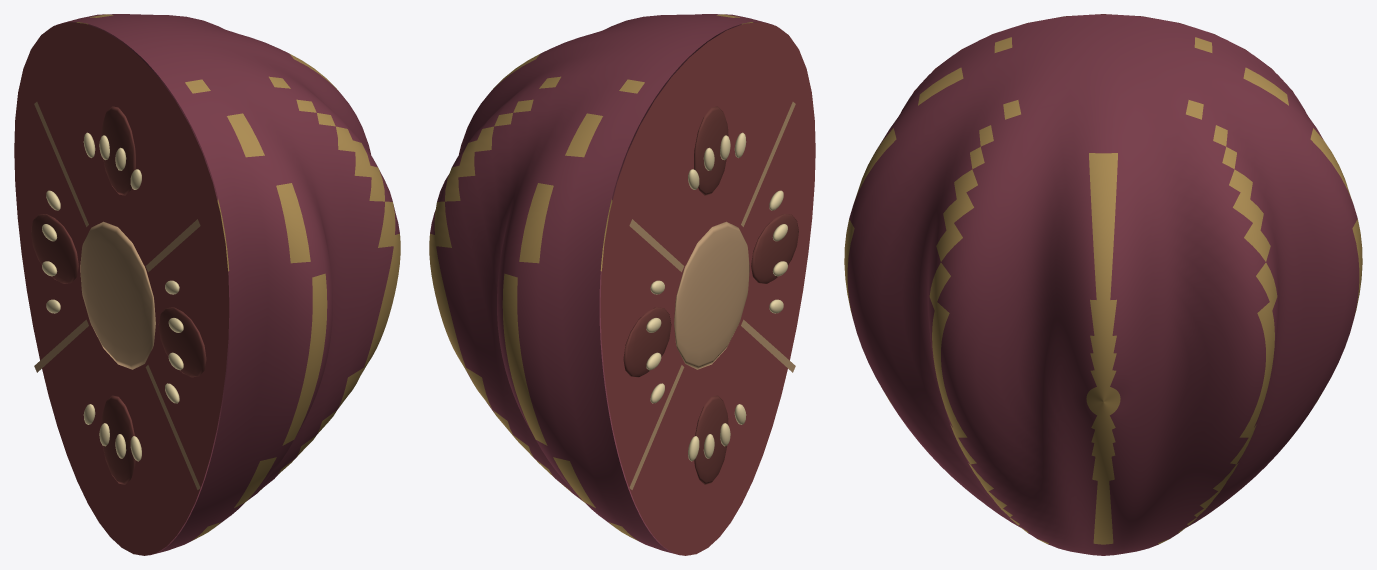
File: event_jackpot_half.glb
3 views of the same model, side by side, from view 1: azimuth 30°, elevation 25°; view 2: azimuth 150°, elevation 25°; view 3: azimuth 270°, elevation 25° (orthographic). The views are drawn at different scales.
Visible parts, largest first — view 1: Jackpot Jackpot garnet heart skin / Fine antique-gold rib se, Jackpot Jackpot moist garnet flesh, Jackpot Champagne pith and septa, Jackpot Four deep wine seed chambers, Jackpot Pale golden archive seeds; view 2: Jackpot Jackpot garnet heart skin / Fine antique-gold rib se, Jackpot Jackpot moist garnet flesh, Jackpot Champagne pith and septa, Jackpot Four deep wine seed chambers, Jackpot Pale golden archive seeds; view 3: Jackpot Jackpot garnet heart skin / Fine antique-gold rib se.
Boxes of the visible parts, <box> form: Jackpot Jackpot garnet heart skin / Fine antique-gold rib se: <box>50,14,400,555</box>; Jackpot Jackpot moist garnet flesh: <box>14,22,229,555</box>; Jackpot Champagne pith and septa: <box>34,102,200,489</box>; Jackpot Four deep wine seed chambers: <box>31,106,206,484</box>; Jackpot Pale golden archive seeds: <box>42,132,183,461</box>; Jackpot Jackpot garnet heart skin / Fine antique-gold rib se: <box>429,14,779,555</box>; Jackpot Jackpot moist garnet flesh: <box>600,22,815,555</box>; Jackpot Champagne pith and septa: <box>629,102,795,489</box>; Jackpot Four deep wine seed chambers: <box>623,106,798,484</box>; Jackpot Pale golden archive seeds: <box>646,132,787,461</box>; Jackpot Jackpot garnet heart skin / Fine antique-gold rib se: <box>844,14,1362,555</box>.
Size of the model in its own units: 0.7613 by 1.4 by 1.25.
